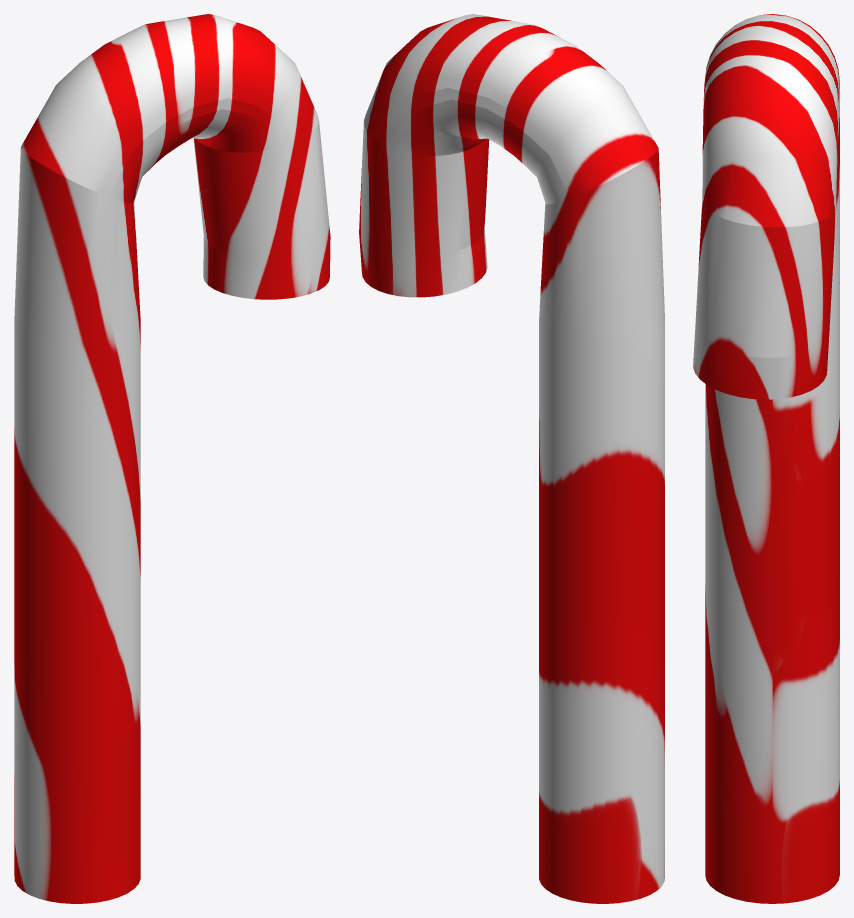
The model's file is Candy_Cane2.fbx.
3 renders of one model, left to right at view 1: azimuth 30°, elevation 25°; view 2: azimuth 150°, elevation 25°; view 3: azimuth 270°, elevation 25°, orthographic. The views are drawn at different scales.
Parts seen in each view (by area): view 1: Cylinder; view 2: Cylinder; view 3: Cylinder.
Boxes of the visible parts, left/top/right/bottom form: Cylinder: left=14, top=14, right=330, bottom=903; Cylinder: left=359, top=14, right=664, bottom=903; Cylinder: left=693, top=14, right=839, bottom=903.
Bounding box in the file's own units: 142 × 383 × 56.94.
